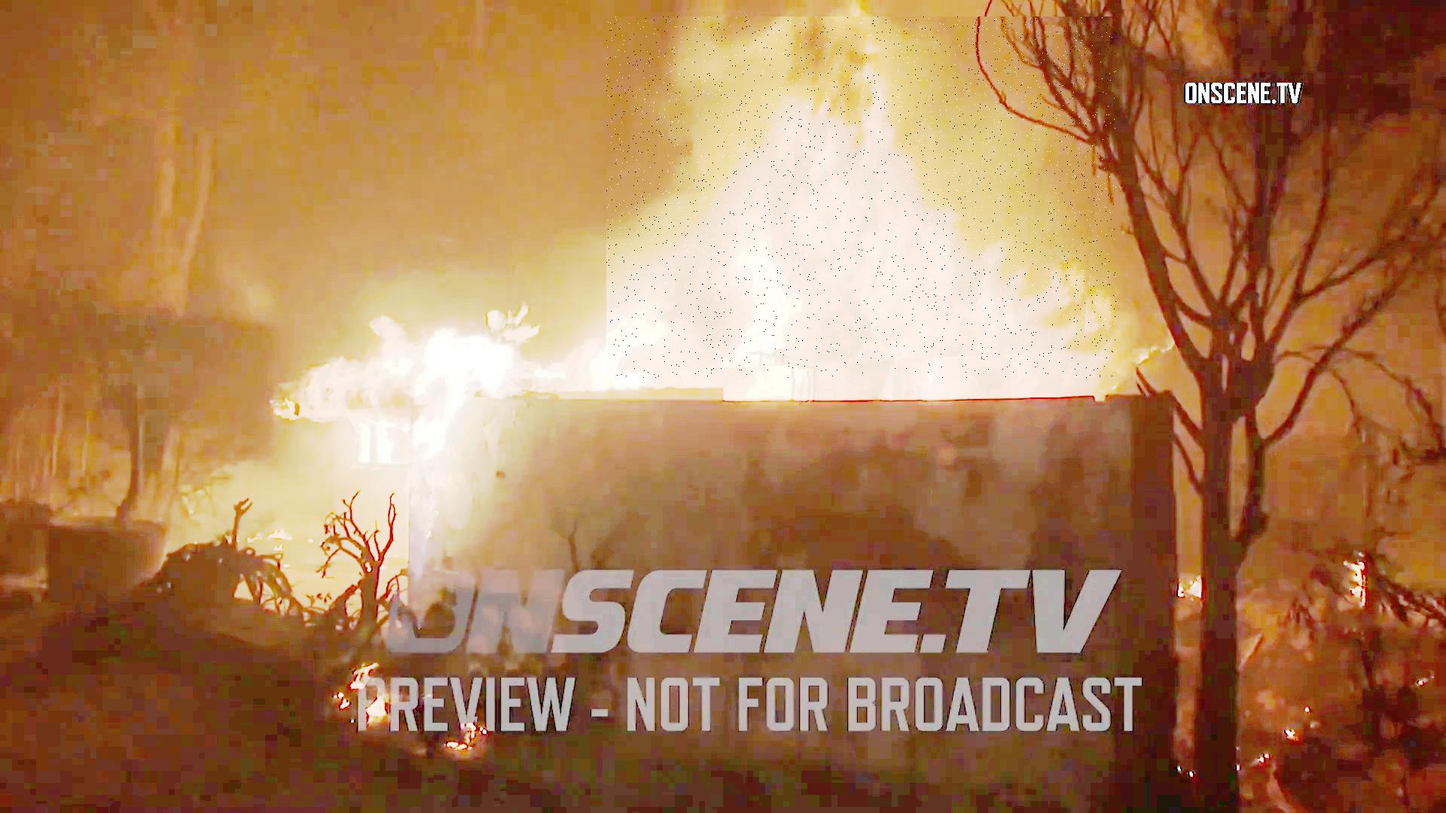fire: (607, 17, 1117, 378)
